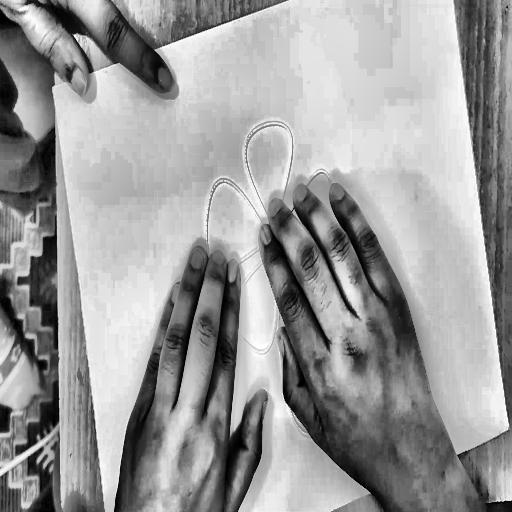bottom_right: (505, 420, 512, 432)
flower: (180, 86, 387, 482)
top_left: (50, 83, 55, 92)
